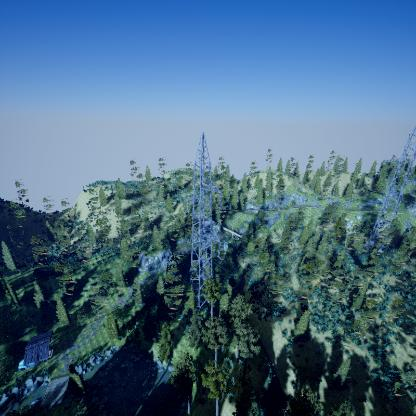tower: (182, 130, 227, 315)
